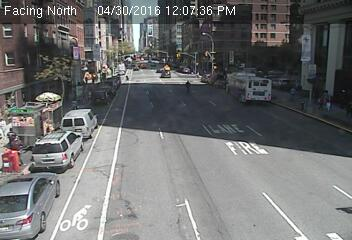neg: (61, 196, 85, 228), (257, 9, 279, 38), (157, 59, 175, 83), (2, 46, 20, 69), (225, 137, 242, 160), (68, 42, 85, 65), (208, 1, 225, 22), (118, 49, 134, 70), (74, 86, 87, 103), (46, 178, 58, 195)
pos: (311, 88, 330, 112), (1, 127, 19, 151), (182, 78, 195, 95), (288, 85, 300, 101)
